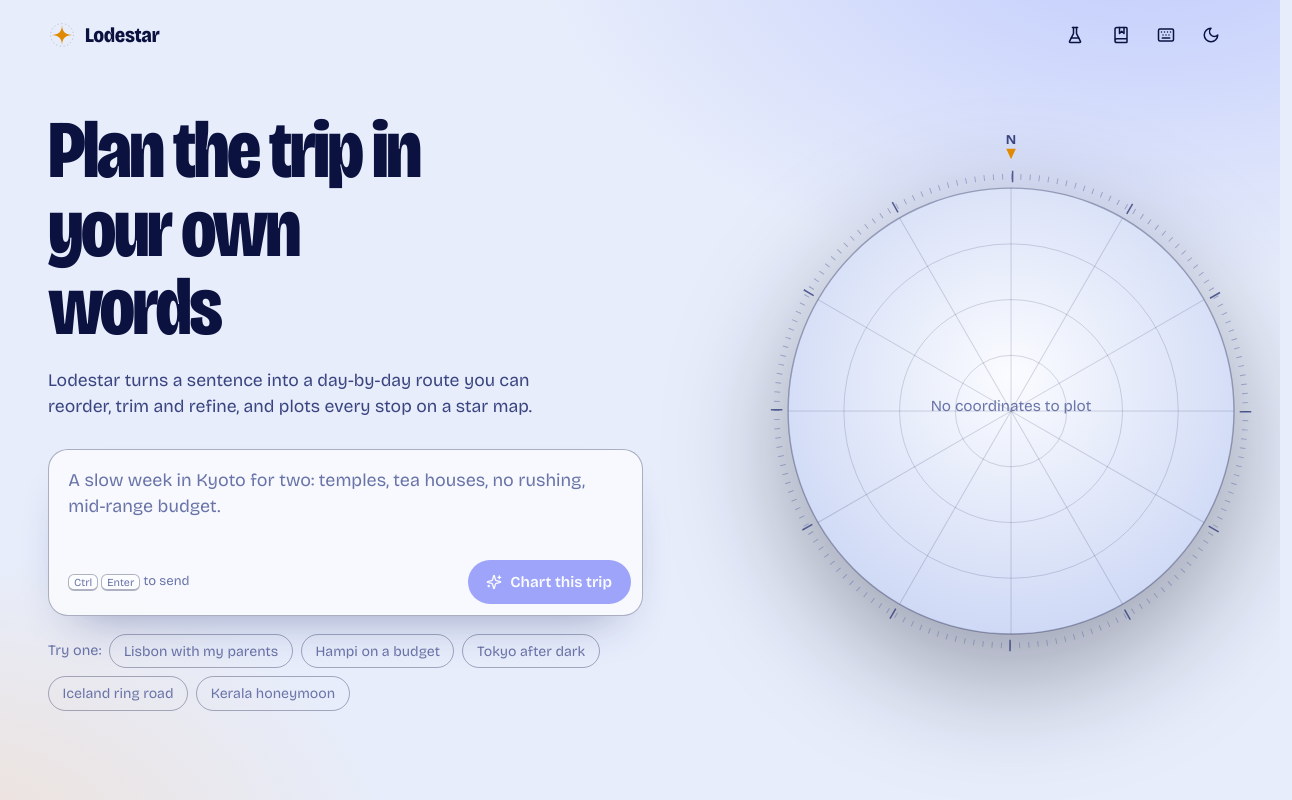
Test: App › never lets a slow old response overwrite a newer one
This screenshot has width=1292, height=800.
Replace the text in the text box named "describe your trip" with "Three days somewhere nice": (345, 501) [49,450,642,552]
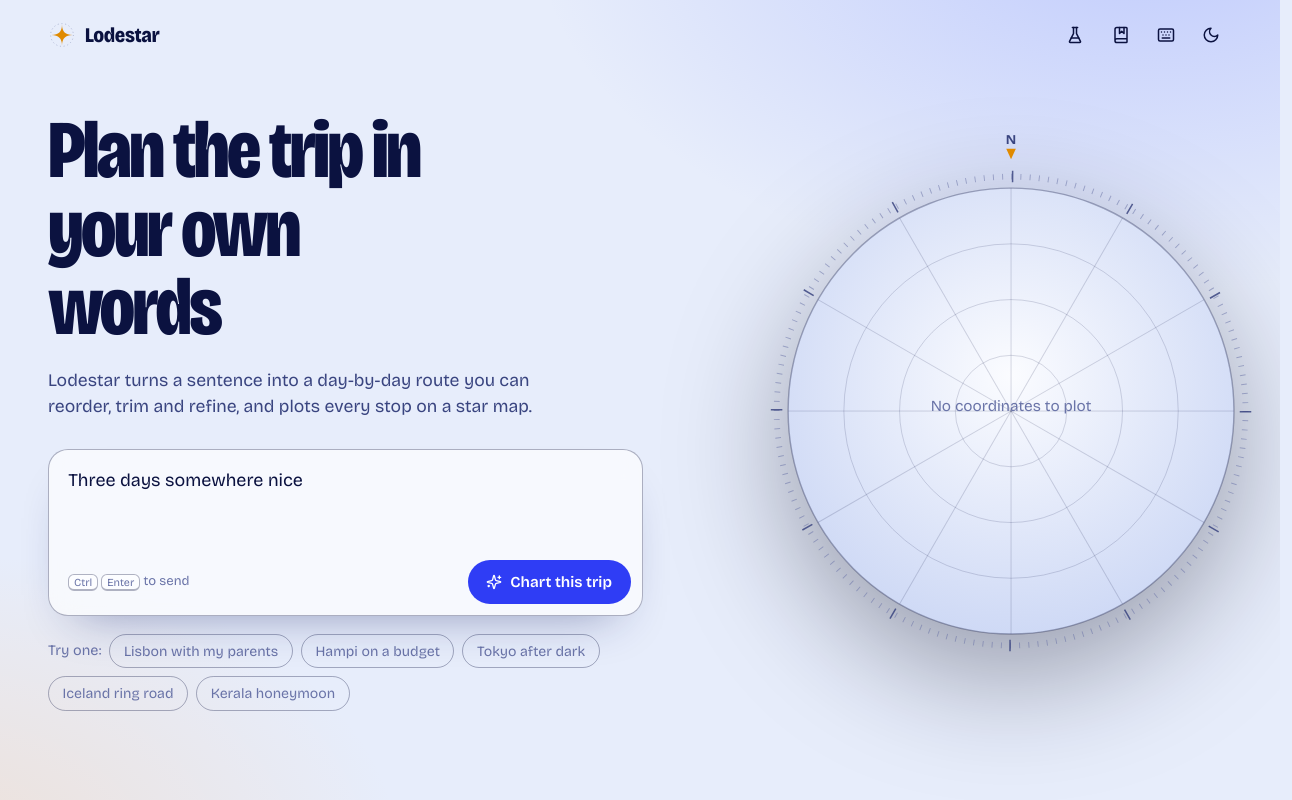
Click the button "Chart this trip": click(549, 582) [468,560,630,604]
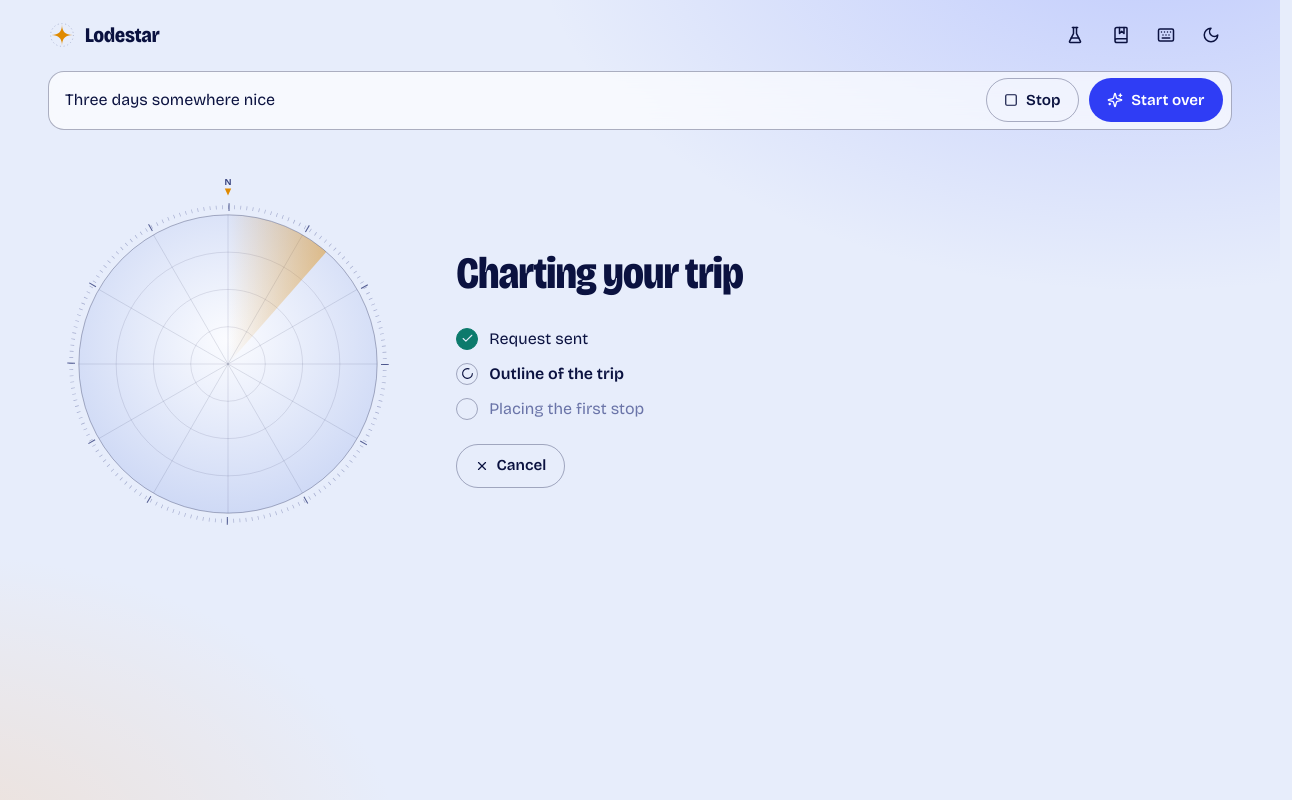
Click the button "Start over": click(1156, 100) [1089,78,1223,122]
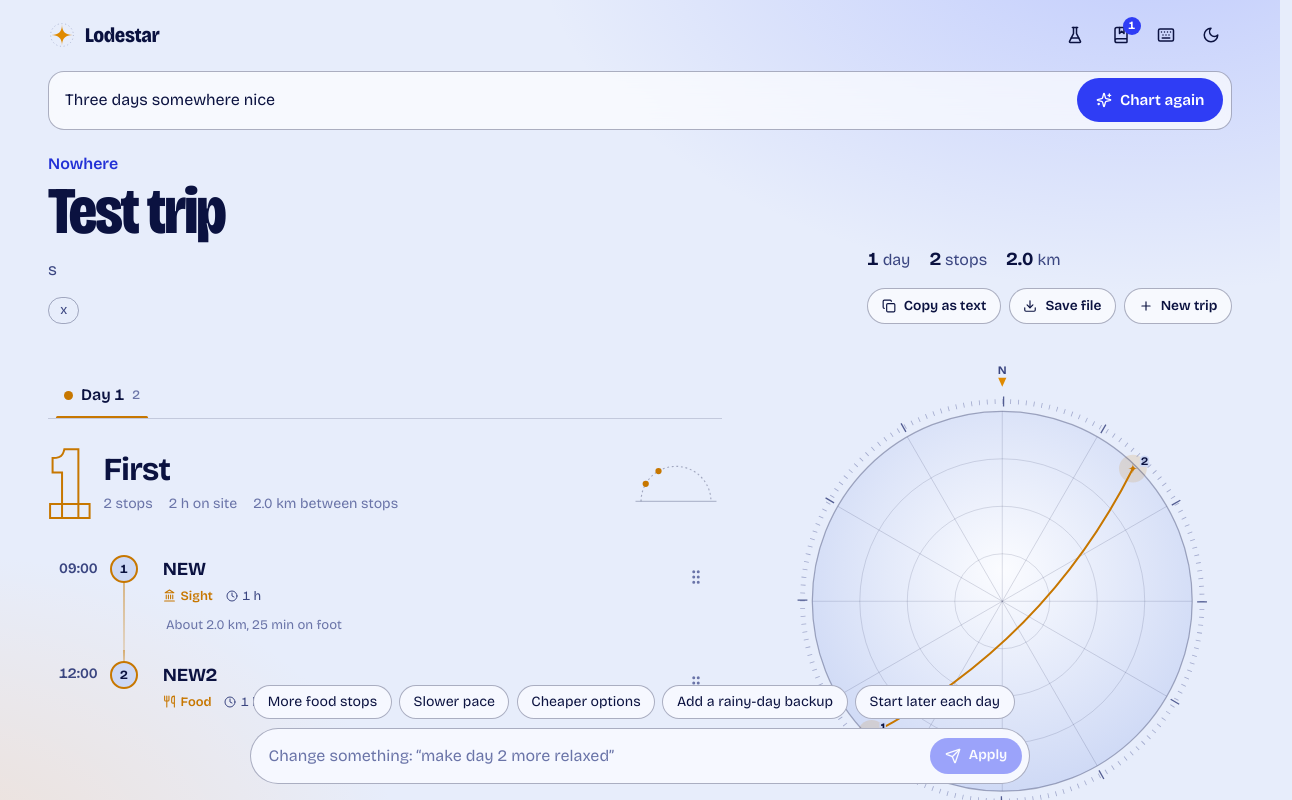
expect the text "NEW" is shown: met, box [163,558,206,580]
